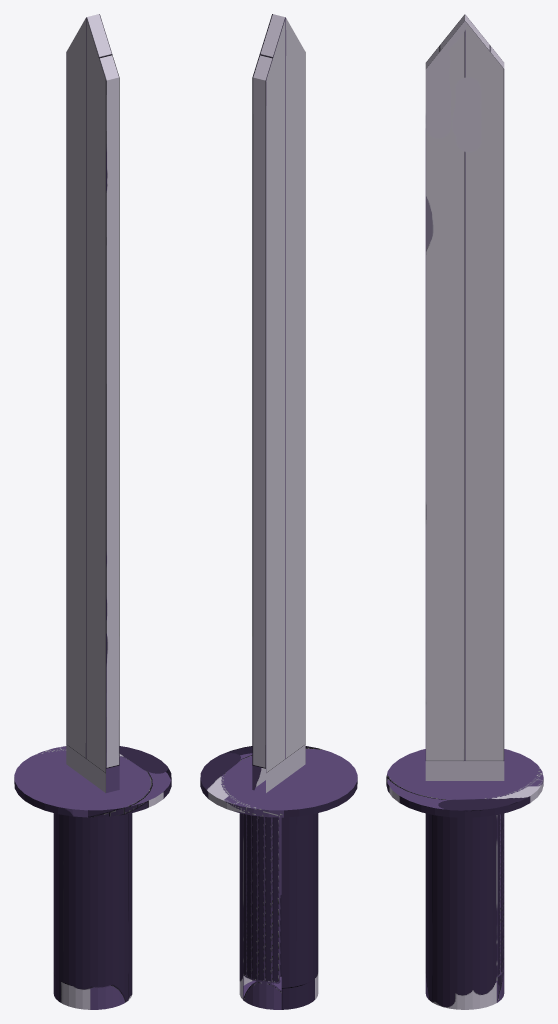
Rendered from Sword.obj.
3 views of the same model, side by side, from view 1: azimuth 30°, elevation 25°; view 2: azimuth 150°, elevation 25°; view 3: azimuth 270°, elevation 25° (orthographic).
Visible parts, largest first — view 1: Sword; view 2: Sword; view 3: Sword.
Part boxes in pixels (x1,y1,x2,y2): Sword: (14, 14, 171, 1009); Sword: (200, 14, 357, 1009); Sword: (386, 14, 543, 1009).
Size of the model in its own units: 0.4 by 2.74 by 0.4.
Materials: 1 (1 with a texture image).
